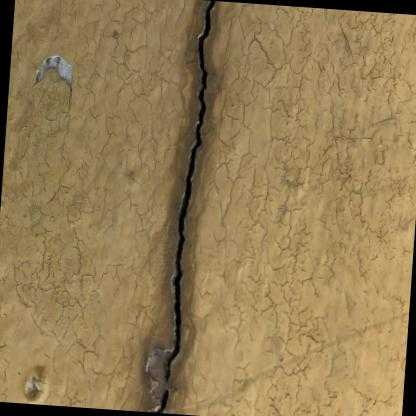crack: (149, 0, 215, 413)
